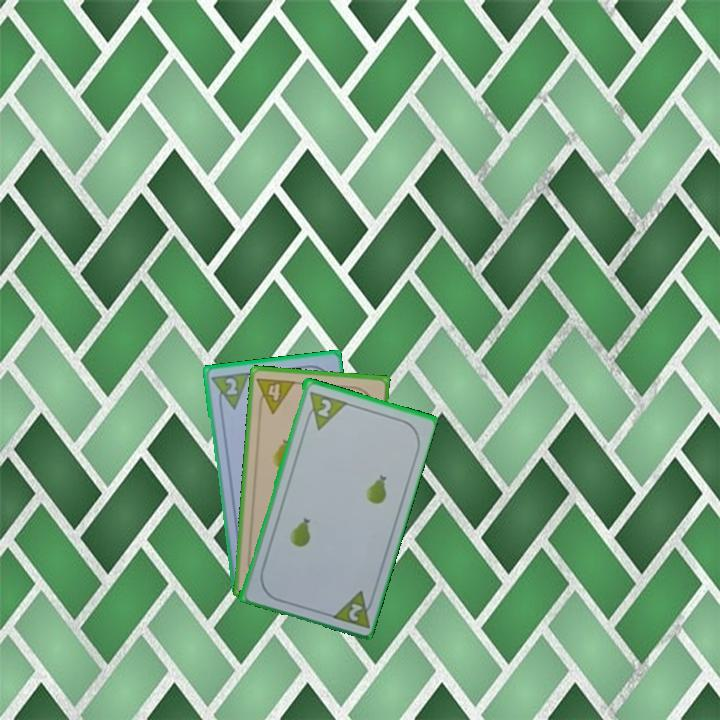2p: (326, 586, 377, 631), (207, 368, 252, 413), (313, 395, 334, 420)
4p: (253, 374, 298, 416)
